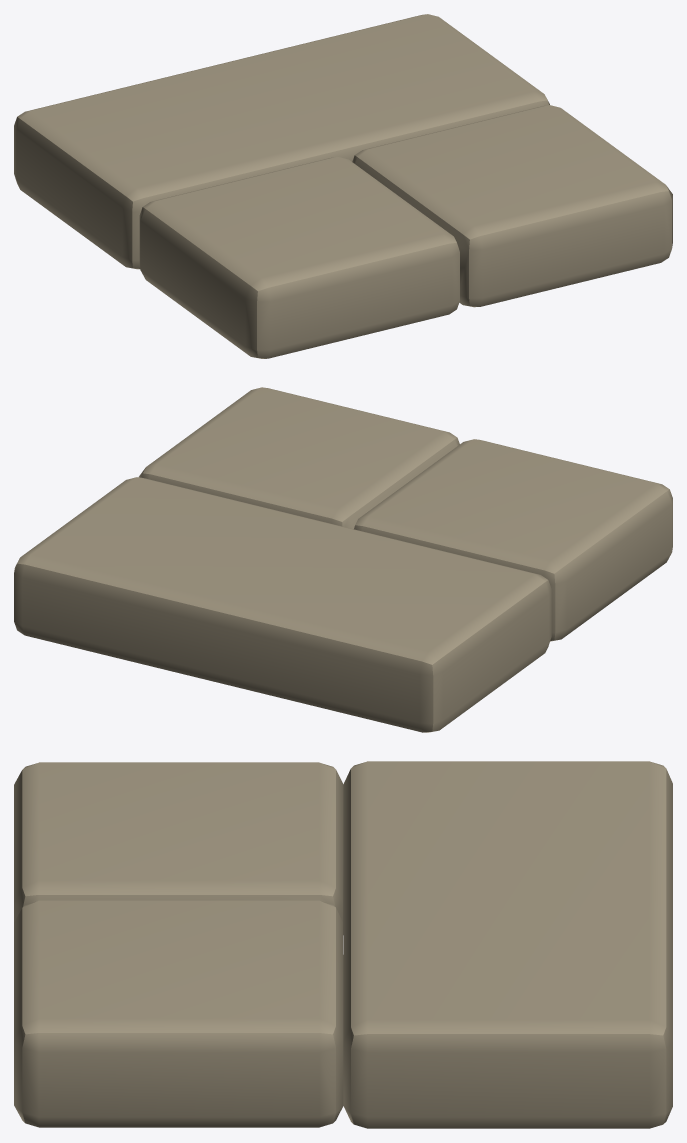
The model's file is Slab_001.fbx.
3 views of the same model, one above another, from view 1: azimuth 30°, elevation 25°; view 2: azimuth 150°, elevation 25°; view 3: azimuth 270°, elevation 25° (orthographic). The views are drawn at different scales.
Parts seen in each view (by area): view 1: Slab_001; view 2: Slab_001; view 3: Slab_001.
Boxes of the visible parts, left/top/right/bottom form: Slab_001: left=14, top=14, right=672, bottom=358; Slab_001: left=14, top=387, right=672, bottom=732; Slab_001: left=14, top=761, right=672, bottom=1128.
Size of the model in its own units: 1 by 0.181 by 1.
